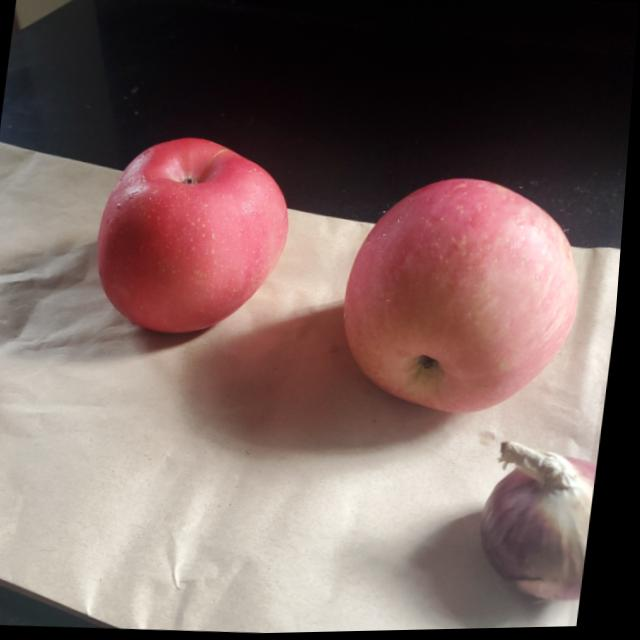apple: (335, 171, 596, 422), (86, 135, 300, 344)
onion: (479, 442, 603, 611)
